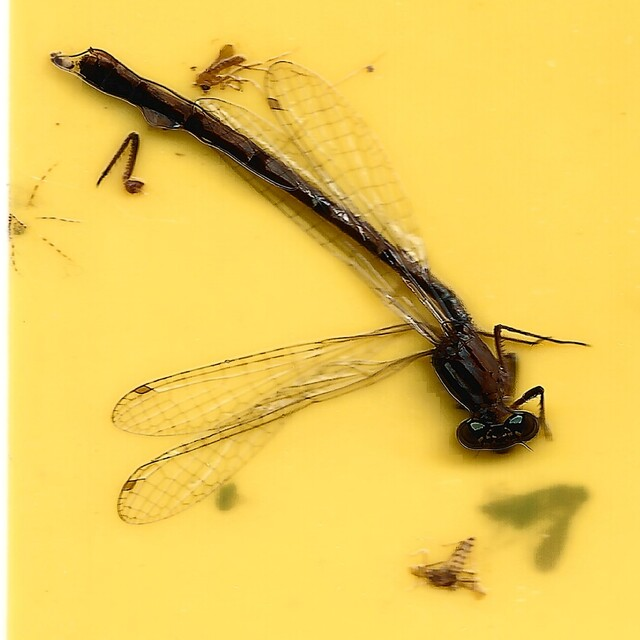Nematocera: (410, 536, 486, 596), (193, 44, 271, 94)
Odonata: (51, 51, 589, 528)
